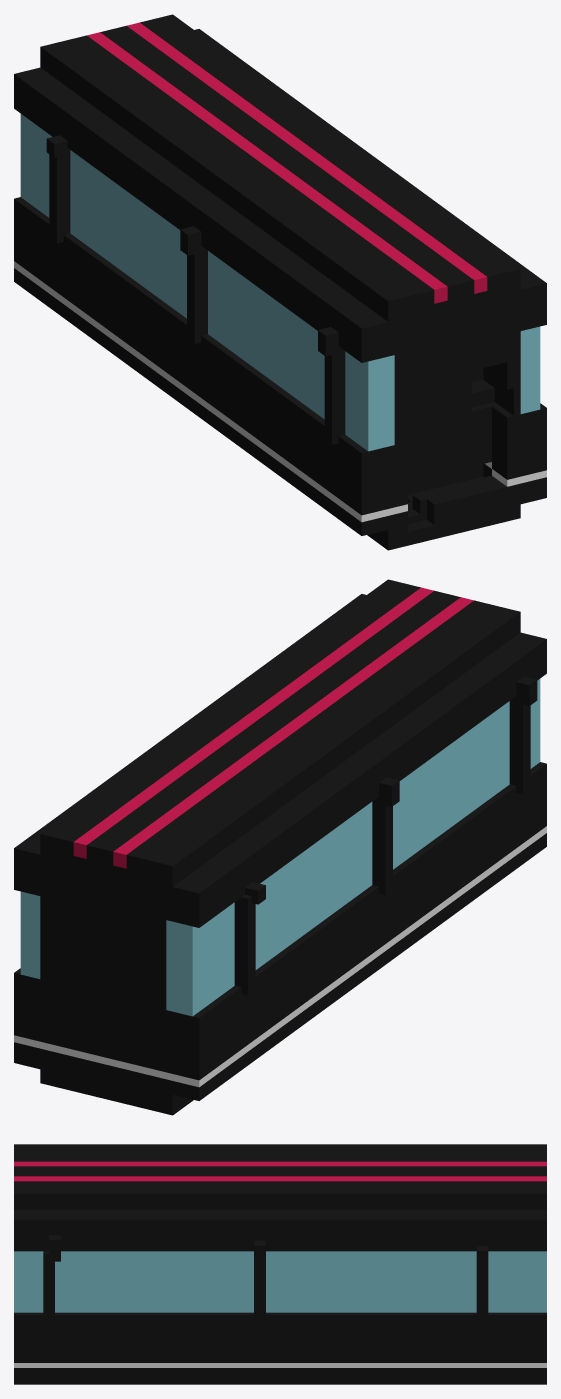
The model's file is train.obj.
3 renders of one model, top to bottom at view 1: azimuth 30°, elevation 25°; view 2: azimuth 150°, elevation 25°; view 3: azimuth 270°, elevation 25°, orthographic. The views are drawn at different scales.
Bounding box in the file's own units: 3.2 × 3.6 × 9.1.
1 material, 1 textured.
